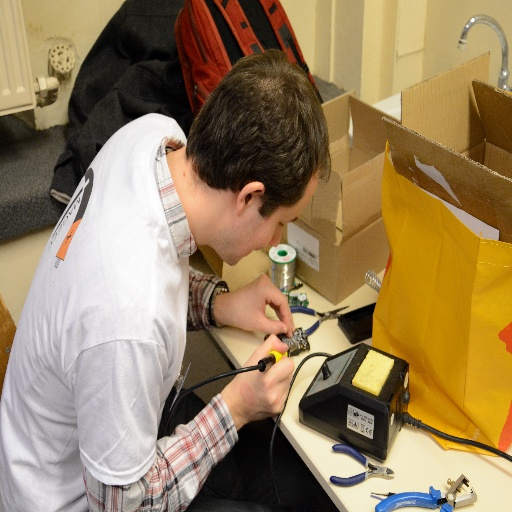hand: (233, 331, 295, 423), (230, 283, 286, 340)
